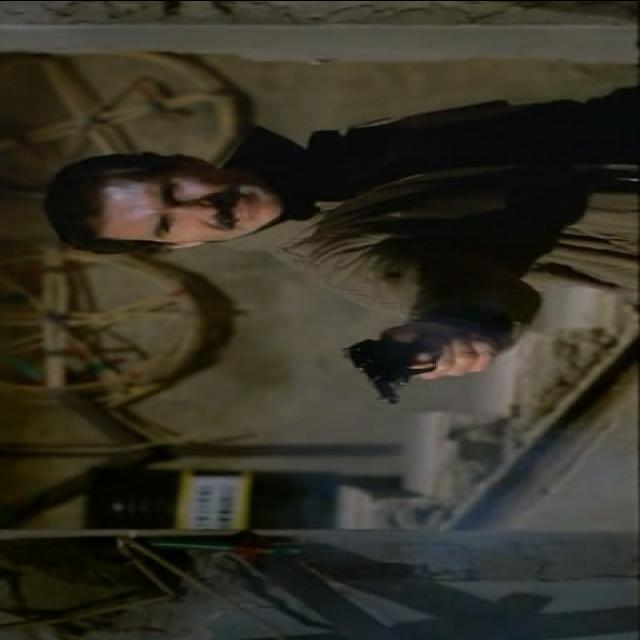weapons: (320, 316, 522, 410)
